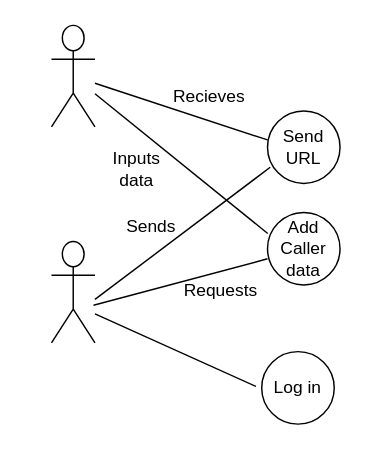
The diagram is 365 pixels wide and 450 high, and some of its shapes have lost their labels. Here are the shapes that lost their labels. From the top down, the box of each, then its label:
(50, 24, 95, 127): Caller
(50, 240, 95, 343): Receptionist
